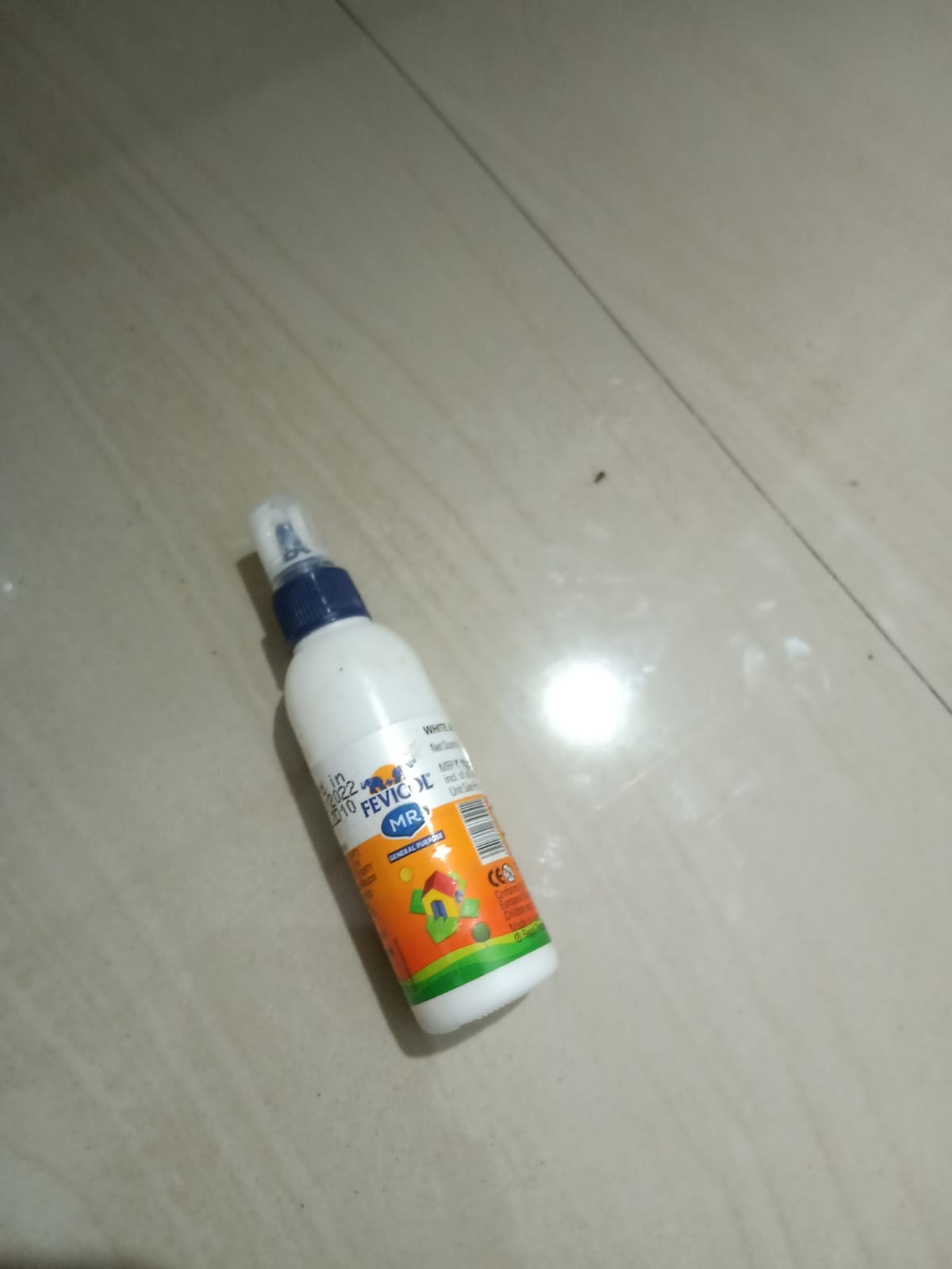plastic: (125, 508, 617, 1018)
